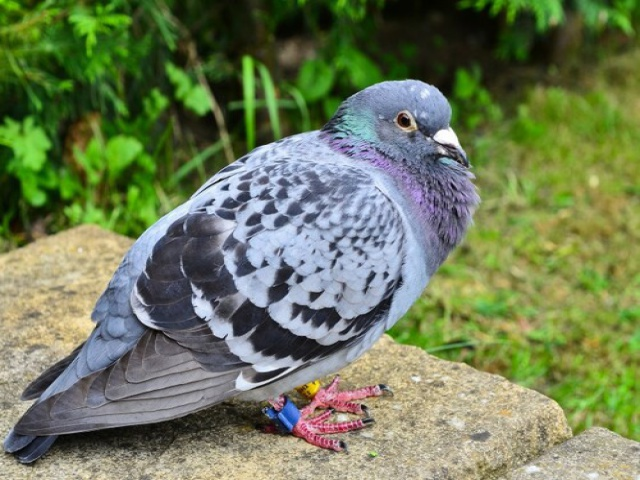Pigeon: (26, 76, 485, 455)
